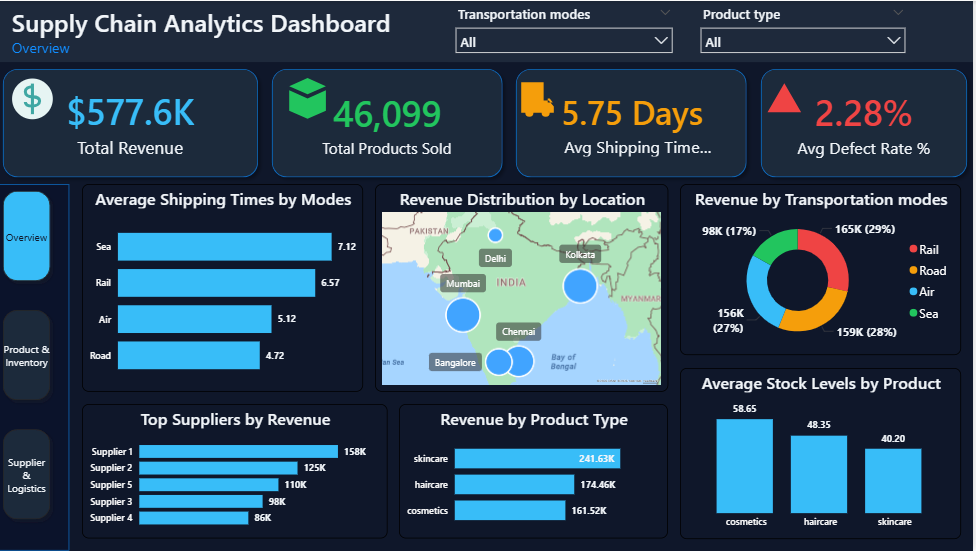

The dashboard page shown, as its layout file describes it:
{"tool":"powerbi","page":{"name":"Overview","canvas":[1280,720],"ordinal":0},"visuals":[{"type":"shape","box":[0,240,96,480],"z":0},{"type":"shape","box":[0,0,1600,80],"z":1000},{"type":"textbox","box":[16,0,544,80],"z":2000},{"type":"shape","box":[0,80,352,160],"z":3000},{"type":"shape","box":[672,80,320,160],"z":4000},{"type":"shape","box":[352,80,320,160],"z":5000},{"type":"shape","box":[992,80,288,160],"z":6000},{"type":"cardVisual","fields":{"Data":["location_performance.Total Revenue"]},"box":[16,96,320,128],"z":7000},{"type":"cardVisual","fields":{"Data":["location_performance.Total Products Sold"]},"box":[368,96,288,128],"z":8000},{"type":"cardVisual","fields":{"Data":["location_performance.Avg Shipping Time"]},"box":[688,96,288,128],"z":9000},{"type":"cardVisual","fields":{"Data":["location_performance.Avg Defect Rate"]},"box":[1008,96,256,128],"z":10000},{"type":"image","box":[368,96,80,64],"z":11000},{"type":"image","box":[672,96,80,64],"z":12000},{"type":"image","box":[1008,96,48,64],"z":13000},{"type":"image","box":[16,64,64,128],"z":14000},{"type":"clusteredBarChart","title":"Revenue by Product Type","fields":{"Category":["supply_chain_data.Product type"],"Y":["Sum(supply_chain_data.Revenue generated)"]},"box":[528,528,352,176],"z":15000},{"type":"donutChart","title":"Revenue by Transportation modes","fields":{"Category":["logistics_performance.Transportation modes"],"Y":["Sum(supply_chain_data.Revenue generated)"]},"box":[896,240,368,224],"z":16000},{"type":"clusteredBarChart","title":"Top Suppliers by Revenue","fields":{"Category":["supply_chain_data.Supplier name"],"Y":["Sum(supply_chain_data.Revenue generated)"]},"box":[112,528,400,176],"z":17000},{"type":"clusteredColumnChart","title":"Average Stock Levels by Product","fields":{"Category":["supply_chain_data.Product type"],"Y":["Avg(supply_chain_data.Stock levels)"]},"box":[896,480,368,224],"z":18000},{"type":"azureMap","title":"Revenue Distribution by Location","fields":{"Category":["supply_chain_data.Location"],"Size":["Sum(supply_chain_data.Revenue generated)"]},"box":[496,240,384,272],"z":19000},{"type":"barChart","title":"Average Shipping Times by Modes","fields":{"Category":["supply_chain_data.Transportation modes"],"Y":["Avg(supply_chain_data.Shipping times)"]},"box":[112,240,368,272],"z":20000},{"type":"slicer","title":"Product Type","fields":{"Values":["product_performance.Product type"]},"box":[912,0,288,80],"z":21000},{"type":"slicer","title":"Product Type","fields":{"Values":["supply_chain_data.Transportation modes"]},"box":[592,0,304,80],"z":22000},{"type":"pageNavigator","box":[0,240,80,448],"z":23000}]}

Visuals, with their boxes in screenshot pixels (x1, y1, x2, y2), scaled from the page's 1280x720 canvas onto the 976x551 screenshot:
shape: Rect(0, 184, 73, 550)
shape: Rect(0, 0, 975, 61)
textbox: Rect(12, 0, 427, 61)
shape: Rect(0, 61, 268, 184)
shape: Rect(512, 61, 756, 184)
shape: Rect(268, 61, 512, 184)
shape: Rect(756, 61, 975, 184)
cardVisual - location_performance.Total Revenue: Rect(12, 73, 256, 171)
cardVisual - location_performance.Total Products Sold: Rect(281, 73, 500, 171)
cardVisual - location_performance.Avg Shipping Time: Rect(525, 73, 744, 171)
cardVisual - location_performance.Avg Defect Rate: Rect(769, 73, 964, 171)
image: Rect(281, 73, 342, 122)
image: Rect(512, 73, 573, 122)
image: Rect(769, 73, 805, 122)
image: Rect(12, 49, 61, 147)
"Revenue by Product Type" clusteredBarChart: Rect(403, 404, 671, 539)
"Revenue by Transportation modes" donutChart: Rect(683, 184, 964, 355)
"Top Suppliers by Revenue" clusteredBarChart: Rect(85, 404, 390, 539)
"Average Stock Levels by Product" clusteredColumnChart: Rect(683, 367, 964, 539)
"Revenue Distribution by Location" azureMap: Rect(378, 184, 671, 392)
"Average Shipping Times by Modes" barChart: Rect(85, 184, 366, 392)
"Product Type" slicer: Rect(695, 0, 915, 61)
"Product Type" slicer: Rect(451, 0, 683, 61)
pageNavigator: Rect(0, 184, 61, 527)
